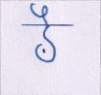ai_matra: (30, 3, 53, 24)
